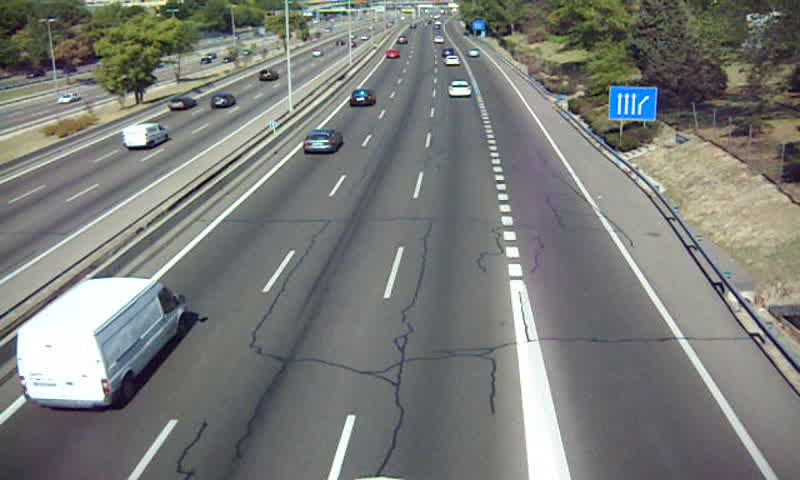car: (302, 130, 343, 154), (349, 87, 375, 107), (446, 80, 473, 97), (443, 54, 462, 66), (385, 49, 403, 60)
van: (15, 277, 187, 410)
